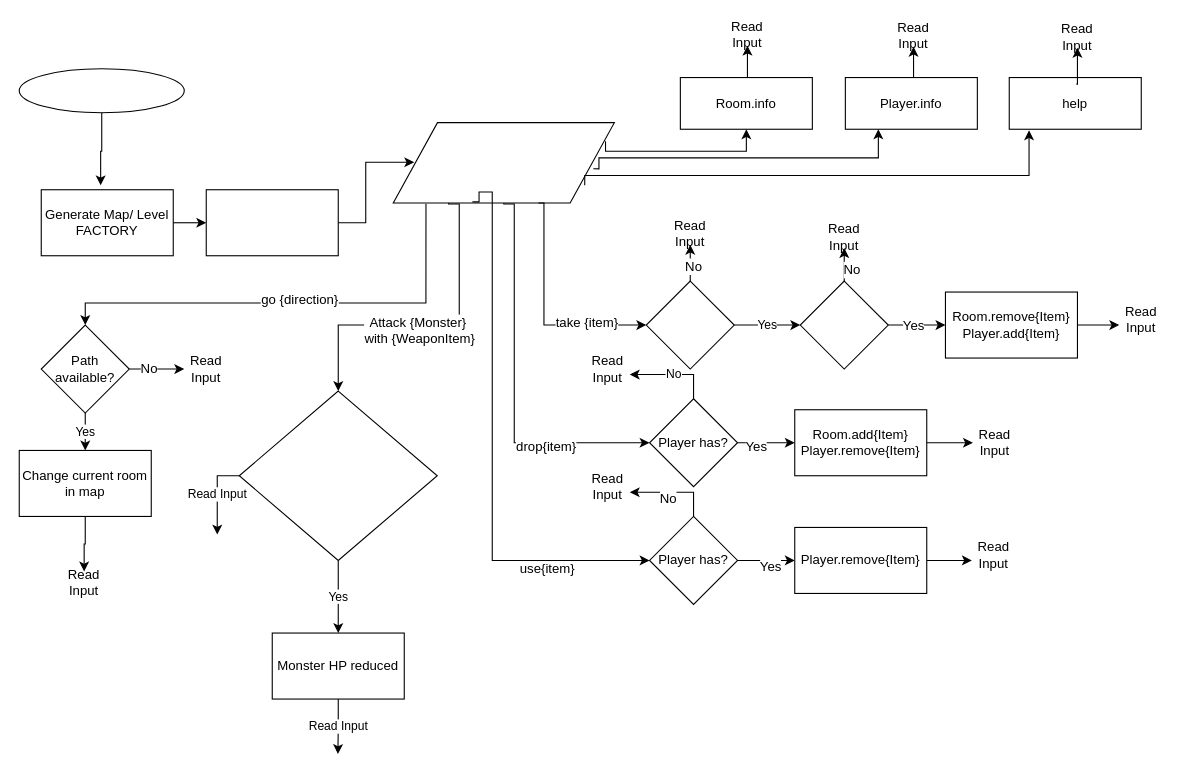
Some shapes in this 1183 by 782 pixel diagram are drawn without their labels. The centre of each missing label's shape, as x and y in pixels:
Check if Monster exists & if Player carries that weapon: [337,475]
Generate Player: [271,222]
Item slot avail?: [843,324]
Read VALID User Input CommandParser help validate: [503,162]
Room contains?: [689,324]
start: [101,90]
